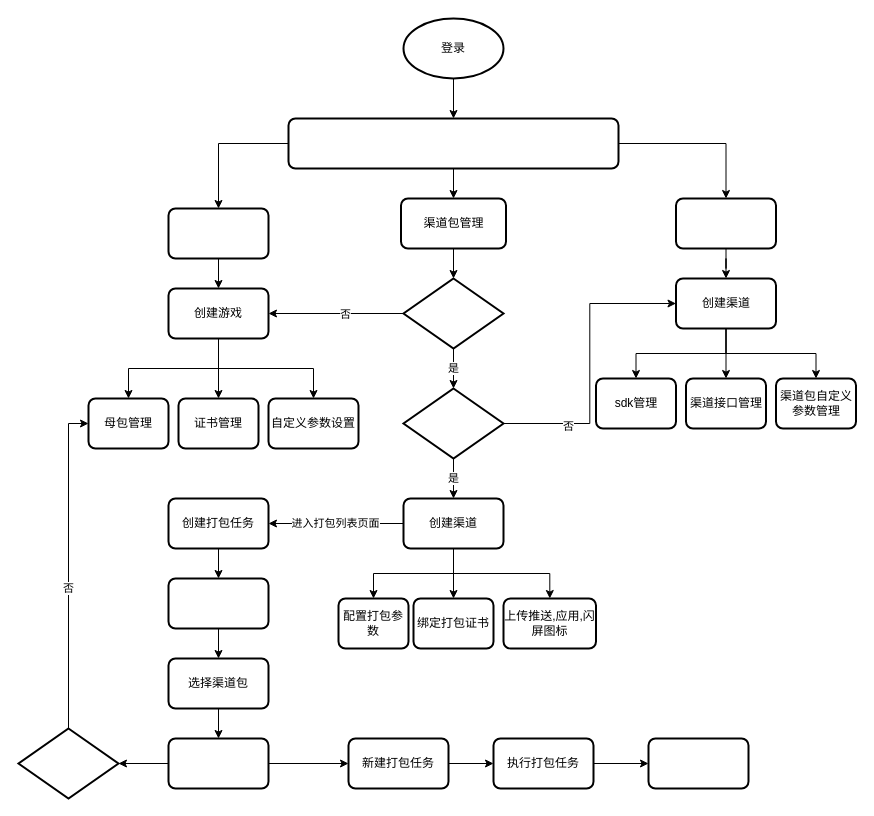
Image size: 874x816. Some labels were removed from this diagram. Each missing label, with the centre of its shape:
"下载" goes at point 698,763.
"母包是否存在" goes at point 68,763.
"渠道是否存在" goes at point 453,423.
"渠道管理" goes at point 725,223.
"游戏是否存在" goes at point 453,313.
"游戏管理" goes at point 218,233.
"选择数据源" goes at point 453,143.
"选择母包版本" goes at point 218,763.
"选择游戏" goes at point 218,603.
